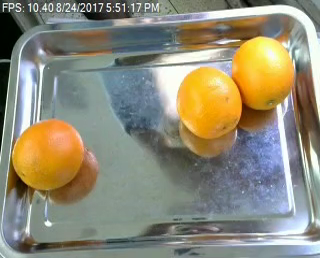Orange: (11, 118, 85, 189), (231, 36, 297, 111), (176, 65, 240, 137)
